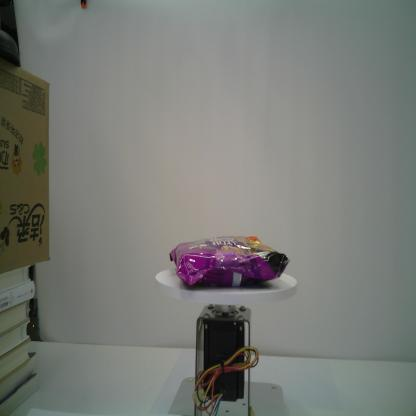Instant Noodles: (167, 234, 290, 290)
